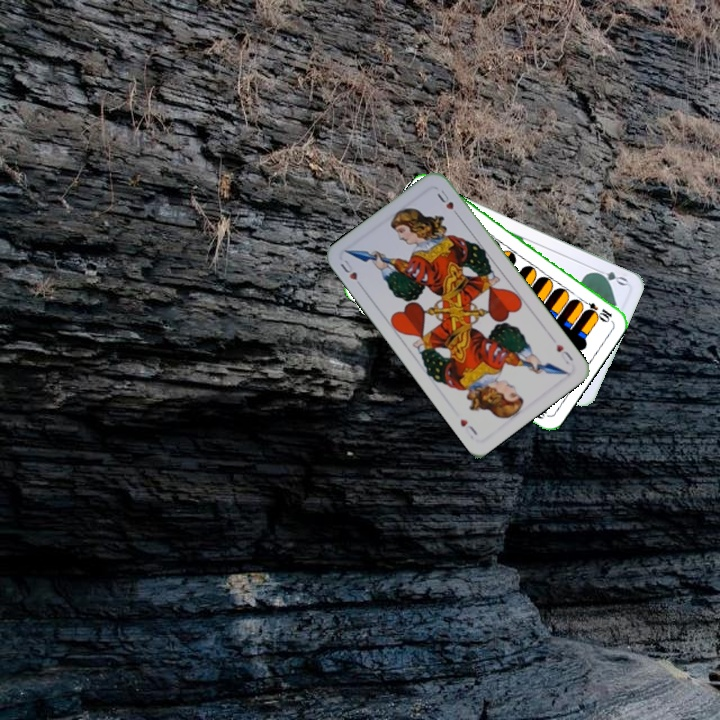E10: (577, 295, 615, 324)
GO: (589, 264, 630, 288)
HU: (336, 255, 366, 291), (552, 340, 576, 367)
